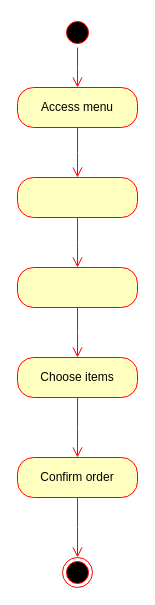
Image size: 155x605. Some labels were removed from this diagram. Each missing label, with the centre of its shape:
"View information about items" goes at point 77,287.
"View menu" goes at point 77,197.
